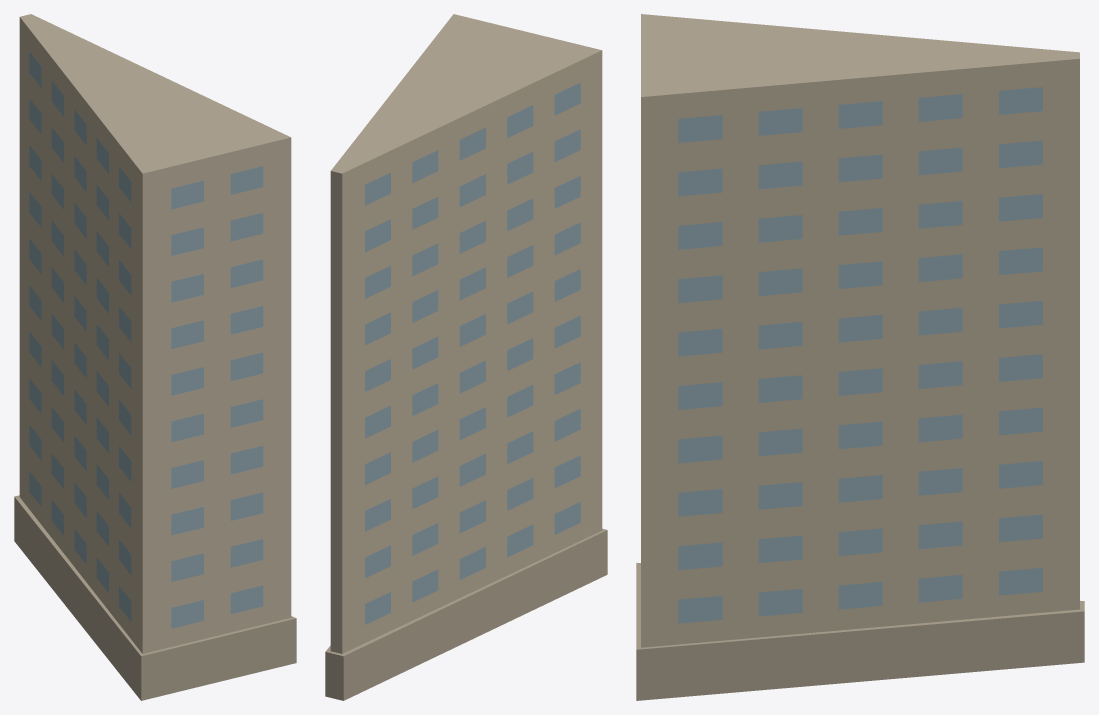
3 views of the same model, side by side, from view 1: azimuth 30°, elevation 25°; view 2: azimuth 150°, elevation 25°; view 3: azimuth 270°, elevation 25° (orthographic). The views are drawn at different scales.
Visible parts, largest first — view 1: wedge-building-lod2; view 2: wedge-building-lod2; view 3: wedge-building-lod2.
Boxes of the visible parts, bbox=[...] form: wedge-building-lod2: bbox=[14, 14, 296, 700]; wedge-building-lod2: bbox=[325, 14, 607, 700]; wedge-building-lod2: bbox=[636, 14, 1084, 700].
Bounding box in the file's own units: 32.63 × 105 × 71.04.
